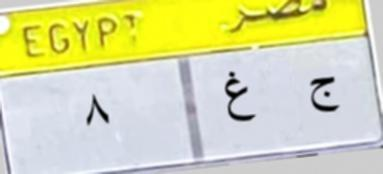8: (83, 90, 113, 132)
ghayn: (222, 70, 258, 128)
jeem: (302, 72, 343, 120)
